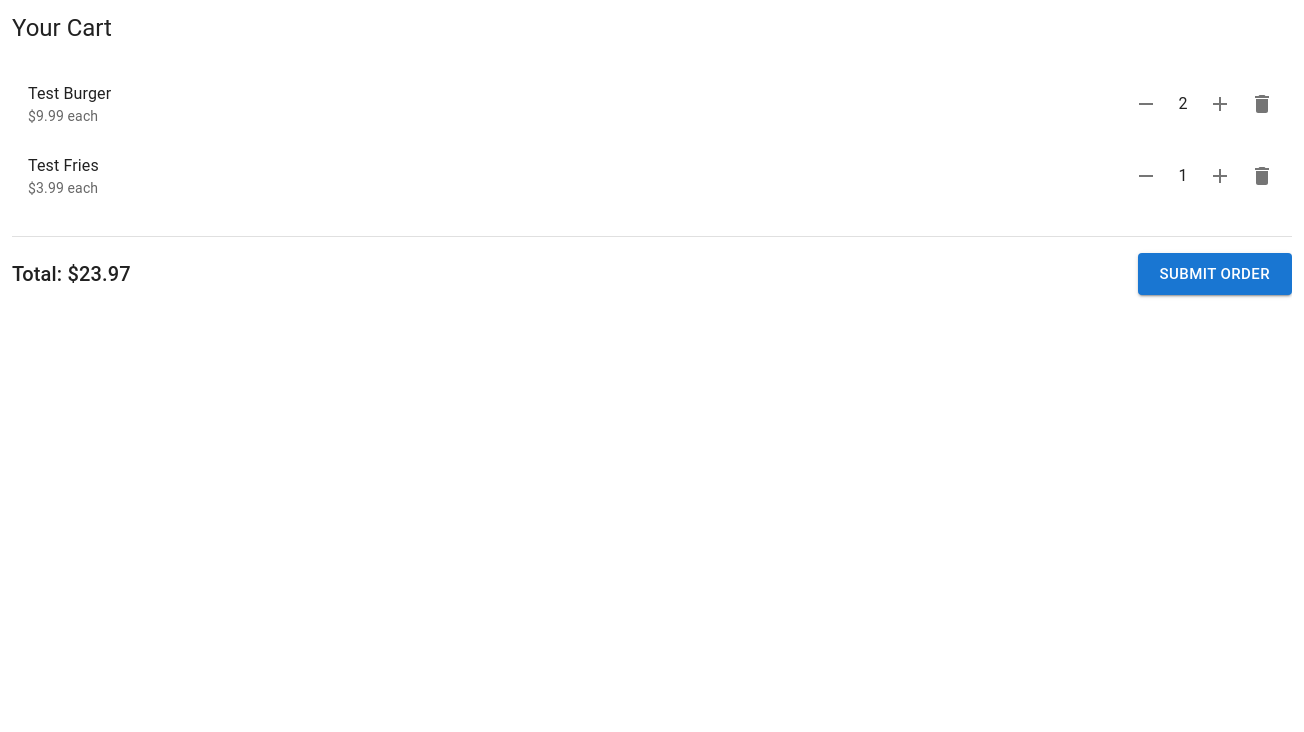
Test: Cart › should submit order and clear cart
Click the button "Submit Order" at (1215, 274), box [1138,253,1292,295]
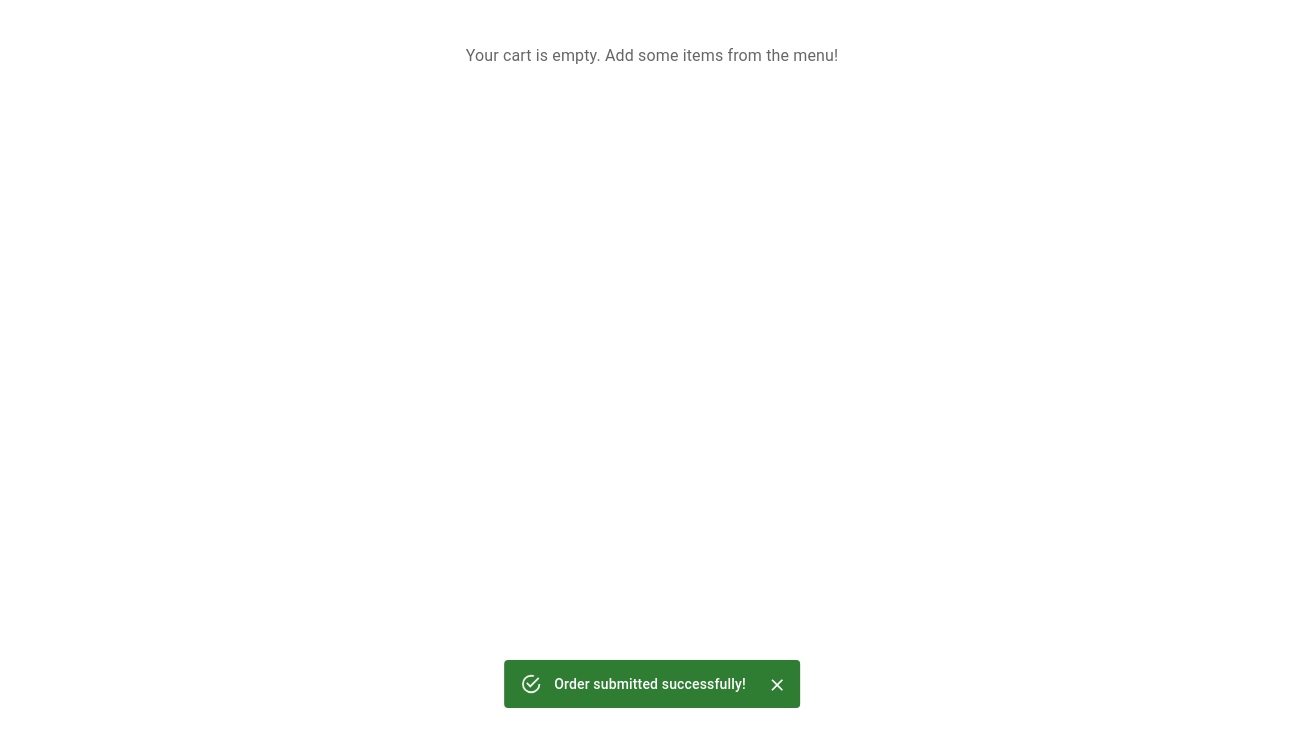
Now the text "Your cart is empty. Add some items from the menu!" is shown, box [466,46,838,65]
